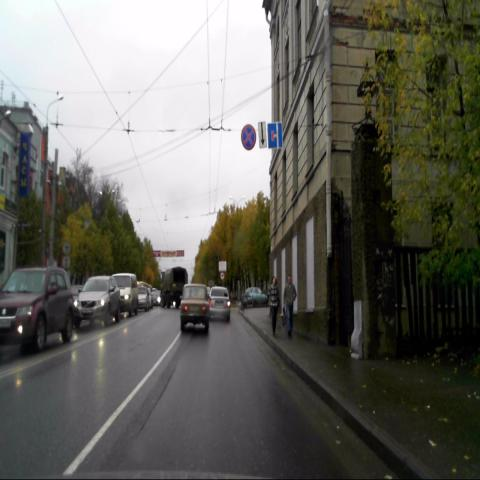6_8_3: (268, 122, 282, 149)
